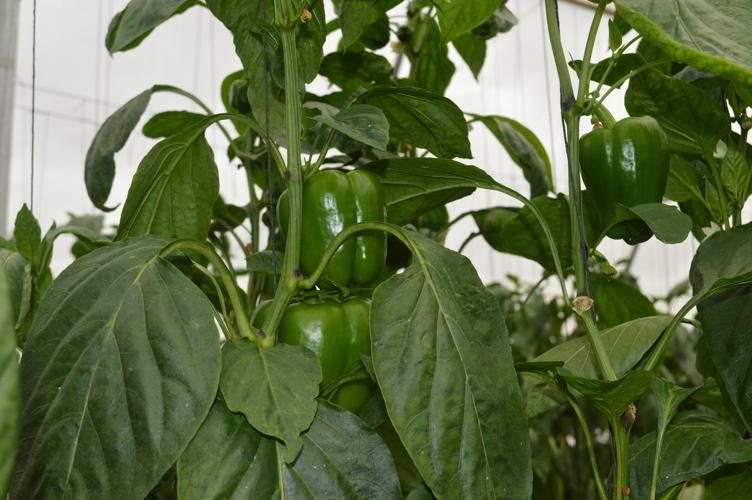BellPepper: (249, 296, 382, 411), (270, 173, 392, 283), (579, 116, 670, 204)
